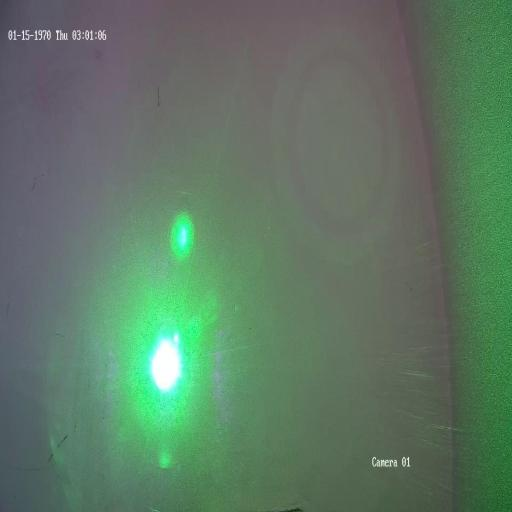laser: (140, 318, 195, 408)
